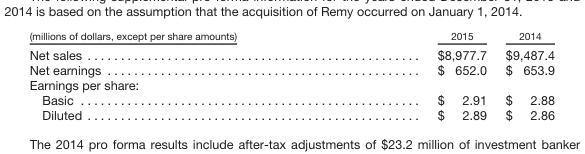table: (28, 28, 554, 122)
table column: (28, 28, 336, 122), (336, 28, 495, 122), (495, 28, 554, 122)
table column header: (28, 28, 554, 44)
table projected row header: (28, 77, 554, 92)
table row: (28, 44, 554, 62), (28, 28, 554, 44), (28, 62, 554, 77), (28, 77, 554, 92), (28, 92, 554, 107), (28, 107, 554, 122)
